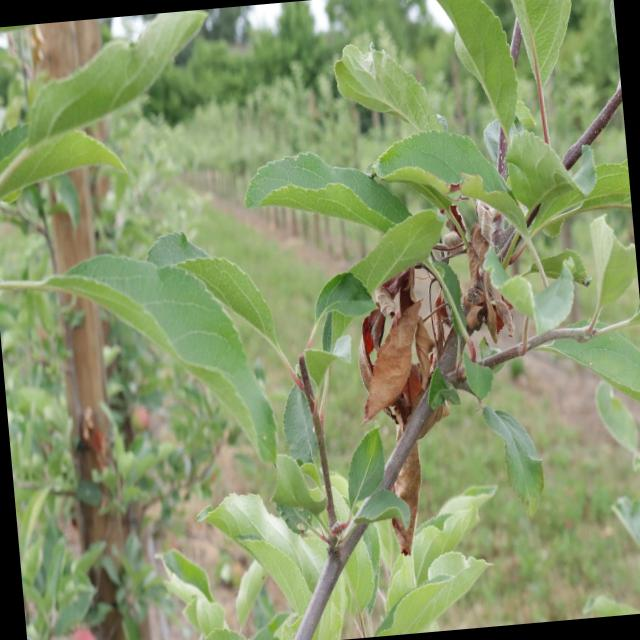-FireBlight-: (337, 248, 530, 408)
